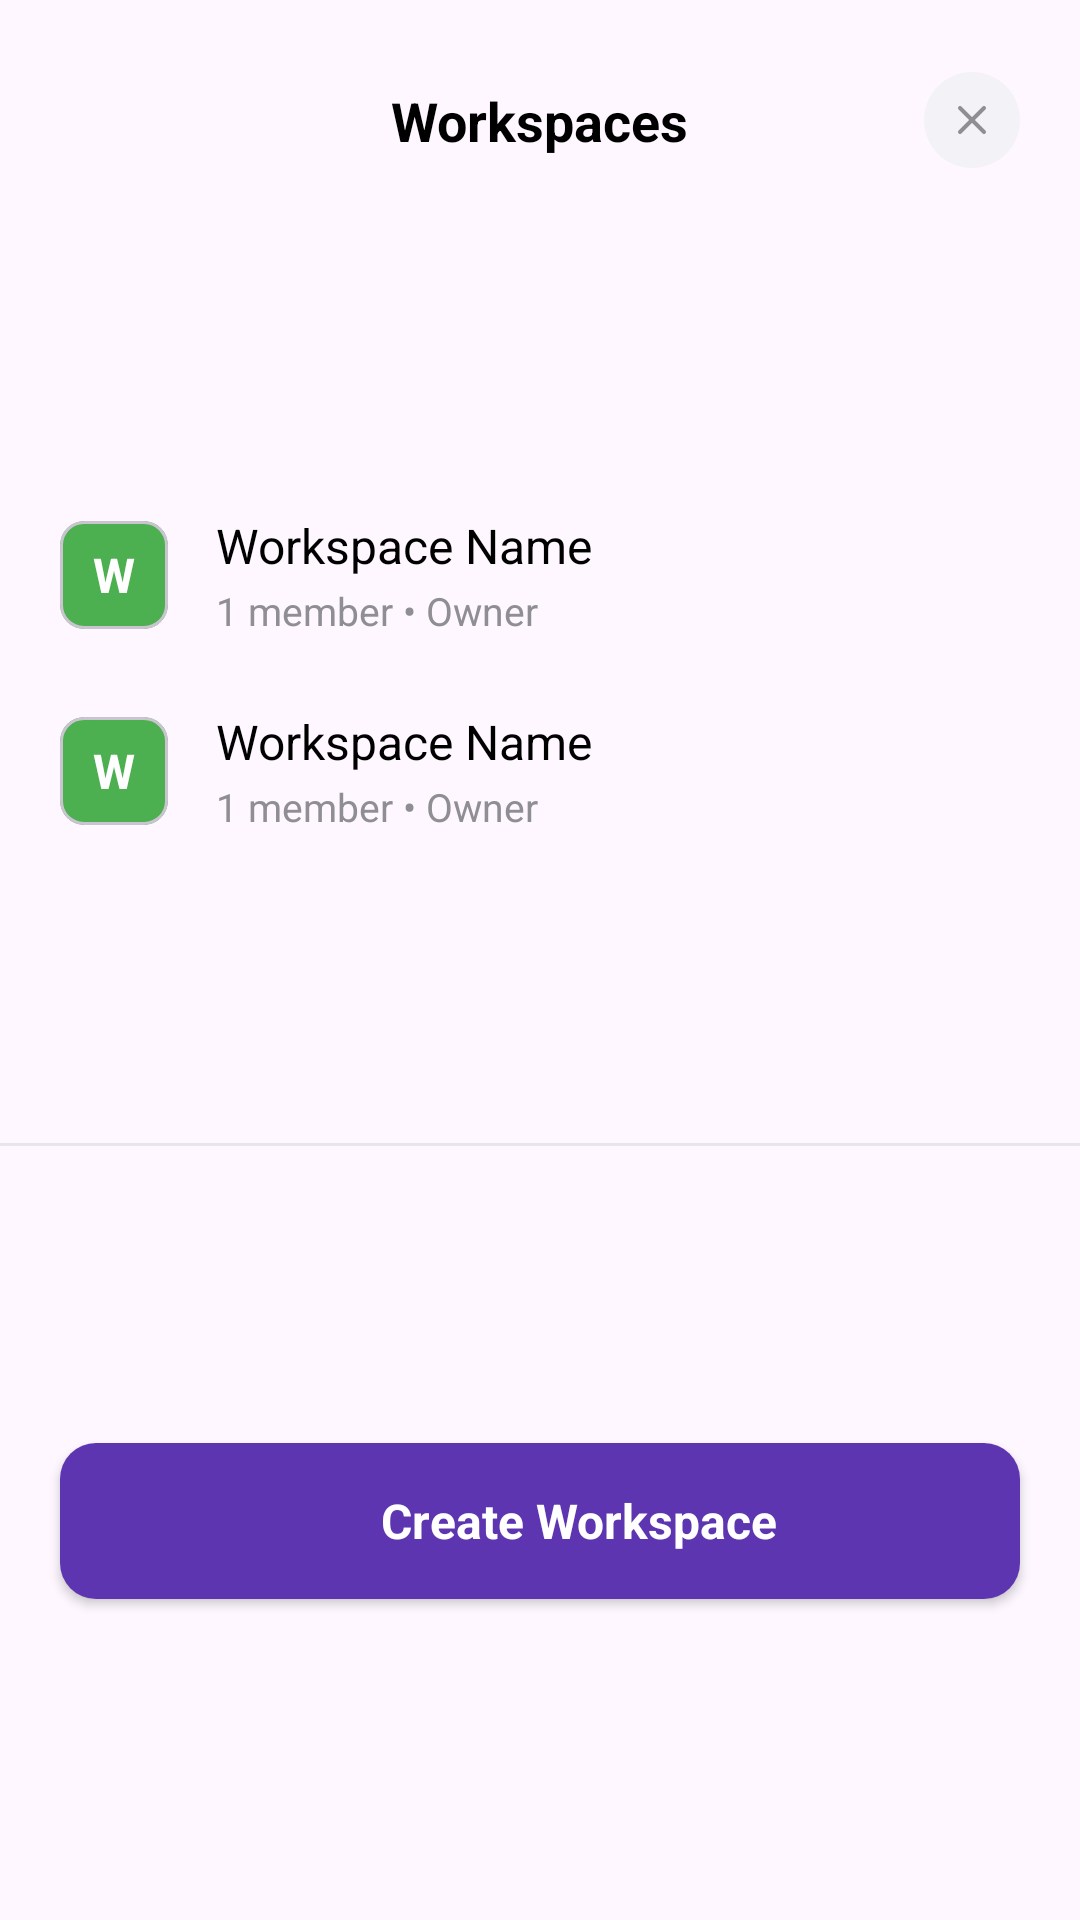

Locate icon controls on the screen. Image size 1080x1920, boxes as detection(x1, y1, x2, y2).
close: detection(924, 72, 1020, 168)
